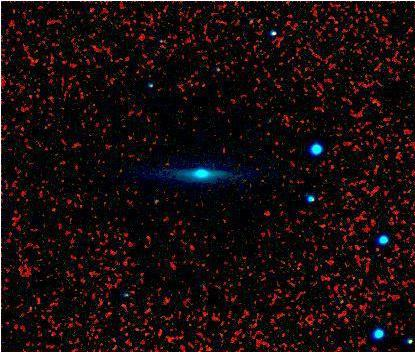star: (253, 199, 283, 229)
